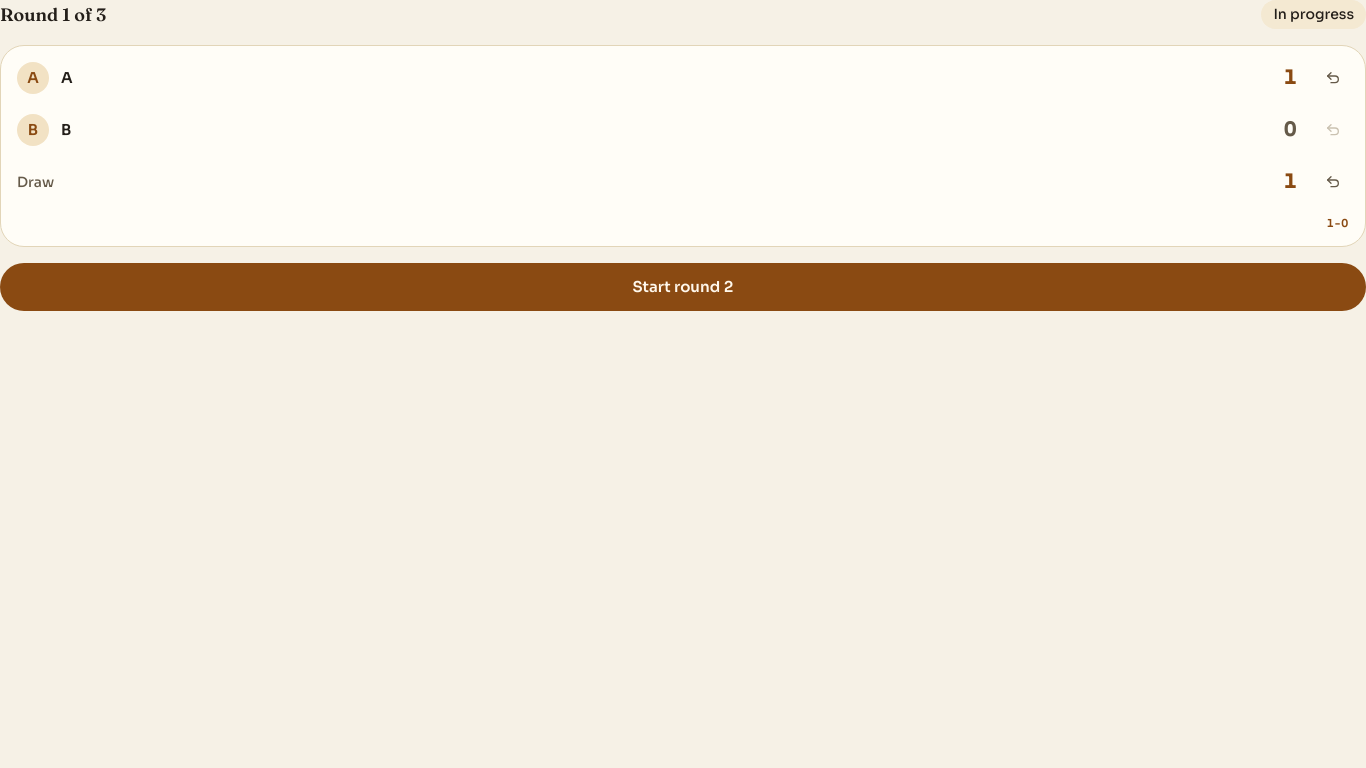
RoundScreen › unfinished-looking scores › mentions drawn games in the score it reads back
Step 1. Click the button "Start round 2" → (683, 287), box [0, 263, 1365, 311]
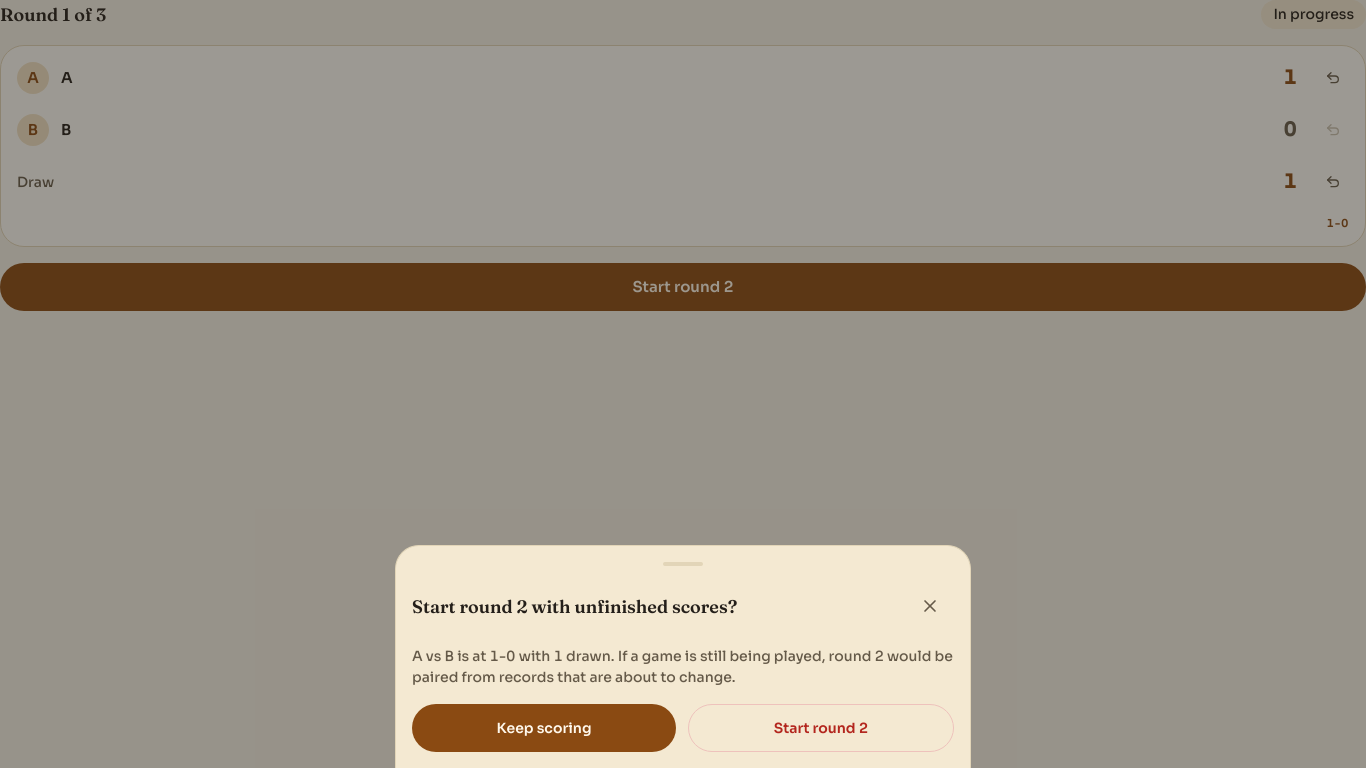
expect the dialog shows "A vs B is at 1-0 with 1 drawn": met, box [412, 647, 953, 686]
